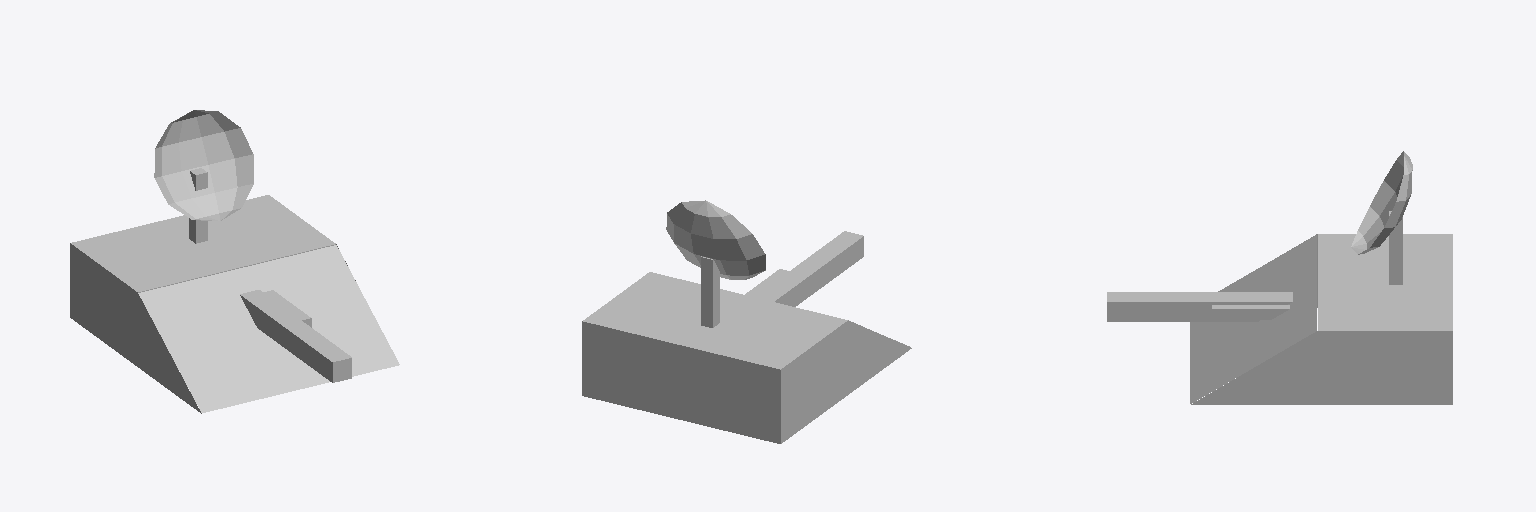
File: mediumTankCannon.obj
3 views of the same model, side by side, from view 1: azimuth 30°, elevation 25°; view 2: azimuth 150°, elevation 25°; view 3: azimuth 270°, elevation 25° (orthographic).
Parts seen in each view (by area): view 1: plane, cube, sphere, pyramid; view 2: cube, sphere, pyramid; view 3: cube, plane, pyramid, sphere.
Boxes of the visible parts, x1=… form: plane: x1=138, y1=245, x2=399, y2=412; cube: x1=70, y1=168, x2=351, y2=382; sphere: x1=154, y1=110, x2=253, y2=220; pyramid: x1=74, y1=244, x2=355, y2=413; cube: x1=582, y1=231, x2=863, y2=443; sphere: x1=666, y1=200, x2=765, y2=279; pyramid: x1=784, y1=320, x2=911, y2=441; cube: x1=1107, y1=211, x2=1452, y2=404; plane: x1=1190, y1=235, x2=1316, y2=403; pyramid: x1=1191, y1=234, x2=1443, y2=404; sphere: x1=1351, y1=151, x2=1412, y2=254.
Size of the model in its own units: 0.625 by 0.6073 by 0.9438.